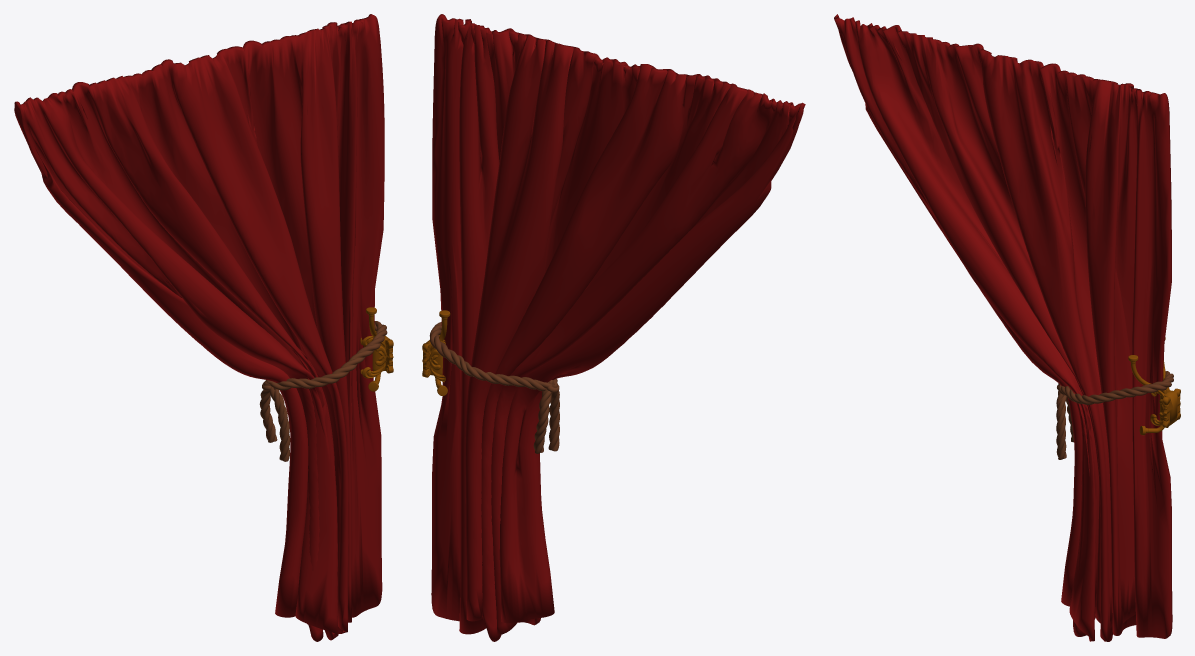
3 views of the same model, side by side, from view 1: azimuth 30°, elevation 25°; view 2: azimuth 150°, elevation 25°; view 3: azimuth 330°, elevation 25° (orthographic). The views are drawn at different scales.
Parts seen in each view (by area): view 1: Curtain.001; view 2: Curtain.001; view 3: Curtain.001.
Part boxes in pixels (x1,y1,x2,y2): Curtain.001: (14,14,393,641); Curtain.001: (422,14,805,641); Curtain.001: (834,14,1180,641).
Bounding box in the file's own units: 2.8 × 4.36 × 0.5644.
